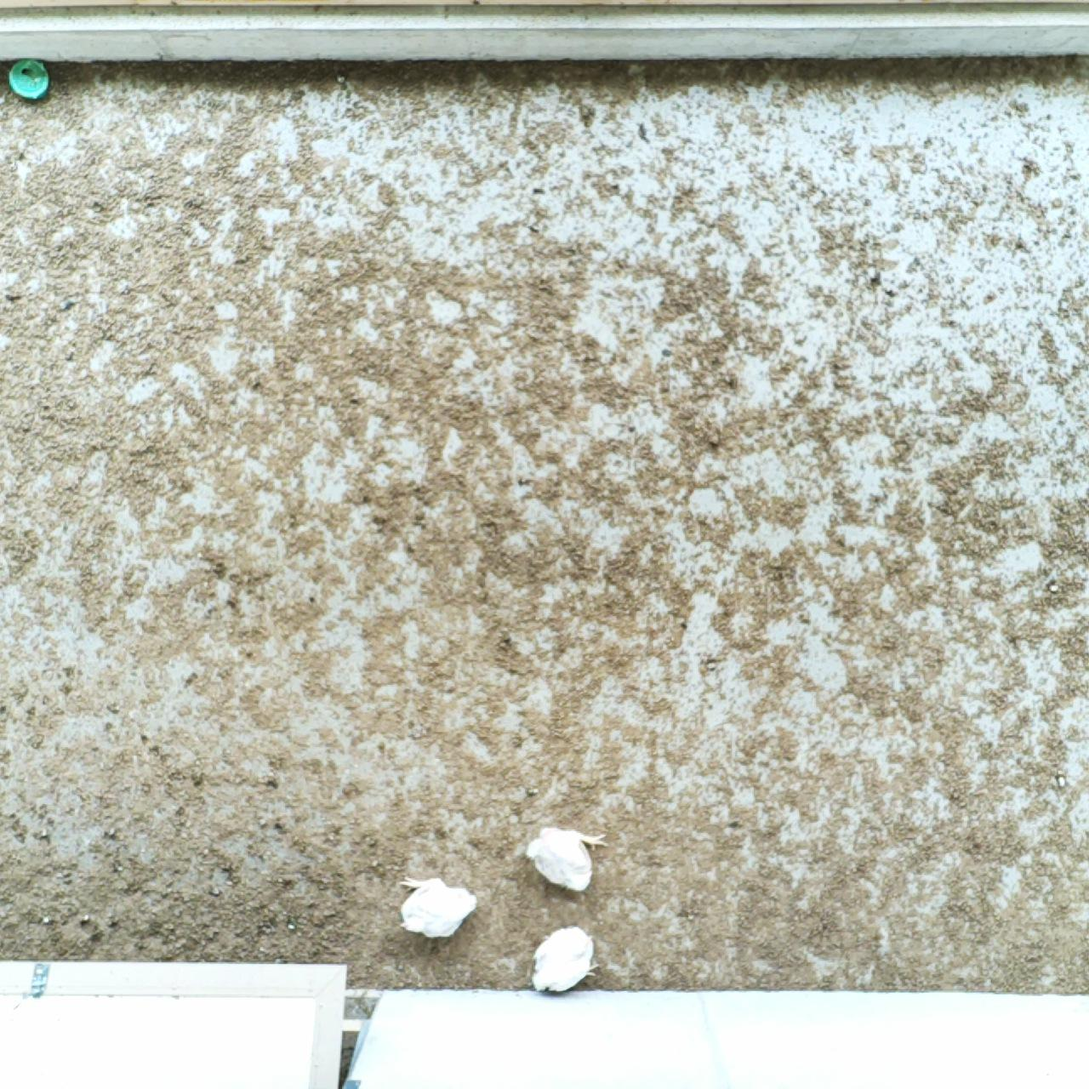chicken: (393, 871, 483, 942), (526, 822, 609, 895), (529, 917, 602, 996)
